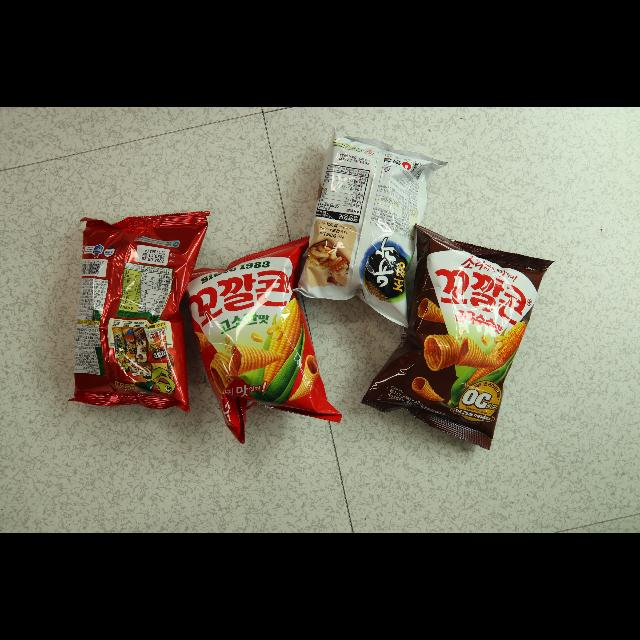bongji: (363, 225, 553, 450), (187, 237, 342, 444), (298, 127, 447, 327), (69, 211, 209, 412)
